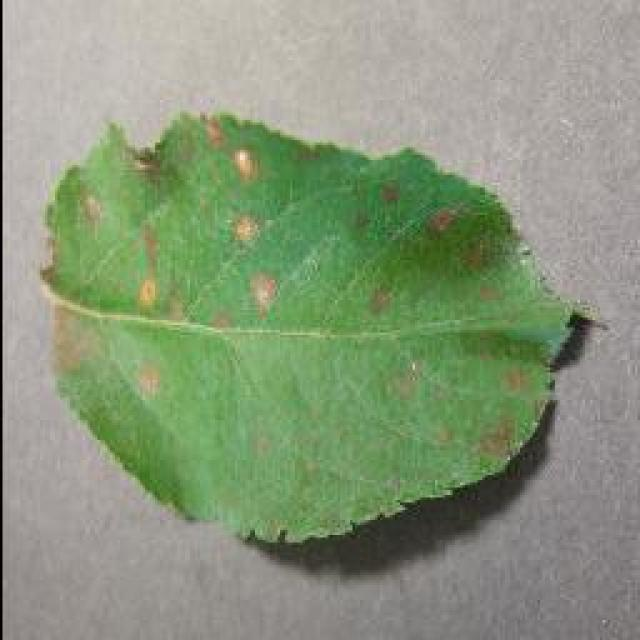apple rust disease: (38, 108, 592, 550)
